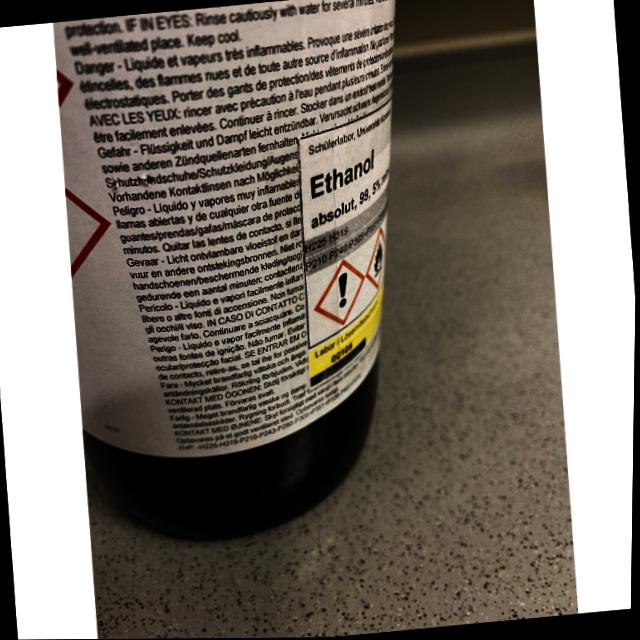health-ozone layer hazard: (338, 273, 350, 308)
